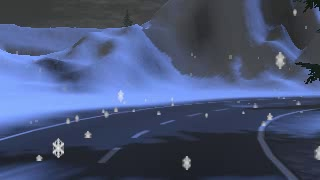Lane: (0, 96, 319, 179)
